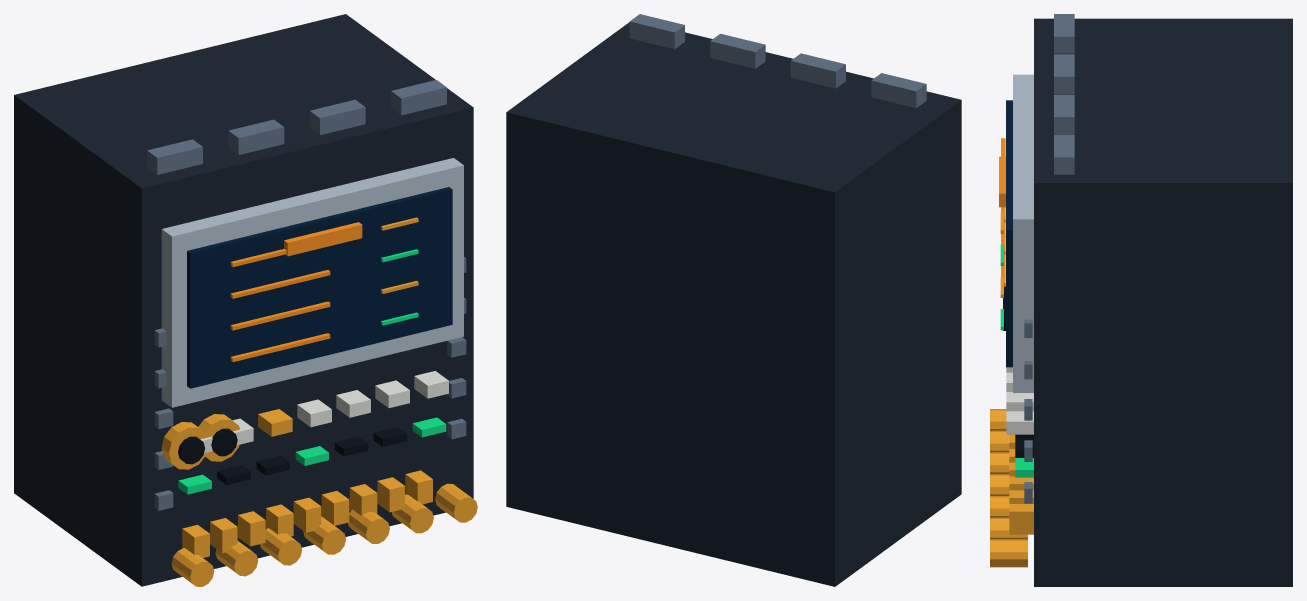
Rendered from 61_L87_HabitatElectricalLoadEmulator.fbx.
The picture shows the model from 3 angles, left to right: view 1: azimuth 30°, elevation 25°; view 2: azimuth 150°, elevation 25°; view 3: azimuth 270°, elevation 25°; orthographic projection. The views are drawn at different scales.
Parts seen in each view (by area): view 1: L87_HabitatElectricalLoadEmulator, L87_HabitatElectricalLoadEmulator_Part_0010, L87_HabitatElectricalLoadEmulator_Part_0011, L87_HabitatElectricalLoadEmulator_Part_0012, L87_HabitatElectricalLoadEmulator_Part_0014, L87_HabitatElectricalLoadEmulator_Part_0013; view 2: L87_HabitatElectricalLoadEmulator, L87_HabitatElectricalLoadEmulator_Part_0010; view 3: L87_HabitatElectricalLoadEmulator, L87_HabitatElectricalLoadEmulator_Part_0010.
Part boxes in pixels (x1,y1,x2,y2): L87_HabitatElectricalLoadEmulator: [14, 14, 477, 586]; L87_HabitatElectricalLoadEmulator_Part_0010: [147, 80, 446, 174]; L87_HabitatElectricalLoadEmulator_Part_0011: [284, 222, 362, 256]; L87_HabitatElectricalLoadEmulator_Part_0012: [161, 422, 207, 469]; L87_HabitatElectricalLoadEmulator_Part_0014: [198, 414, 239, 461]; L87_HabitatElectricalLoadEmulator_Part_0013: [178, 436, 205, 464]; L87_HabitatElectricalLoadEmulator: [506, 22, 961, 586]; L87_HabitatElectricalLoadEmulator_Part_0010: [629, 14, 926, 108]; L87_HabitatElectricalLoadEmulator: [990, 18, 1292, 586]; L87_HabitatElectricalLoadEmulator_Part_0010: [1054, 14, 1074, 174].
Bounding box in the file's own units: 107 × 128 × 83.48.
